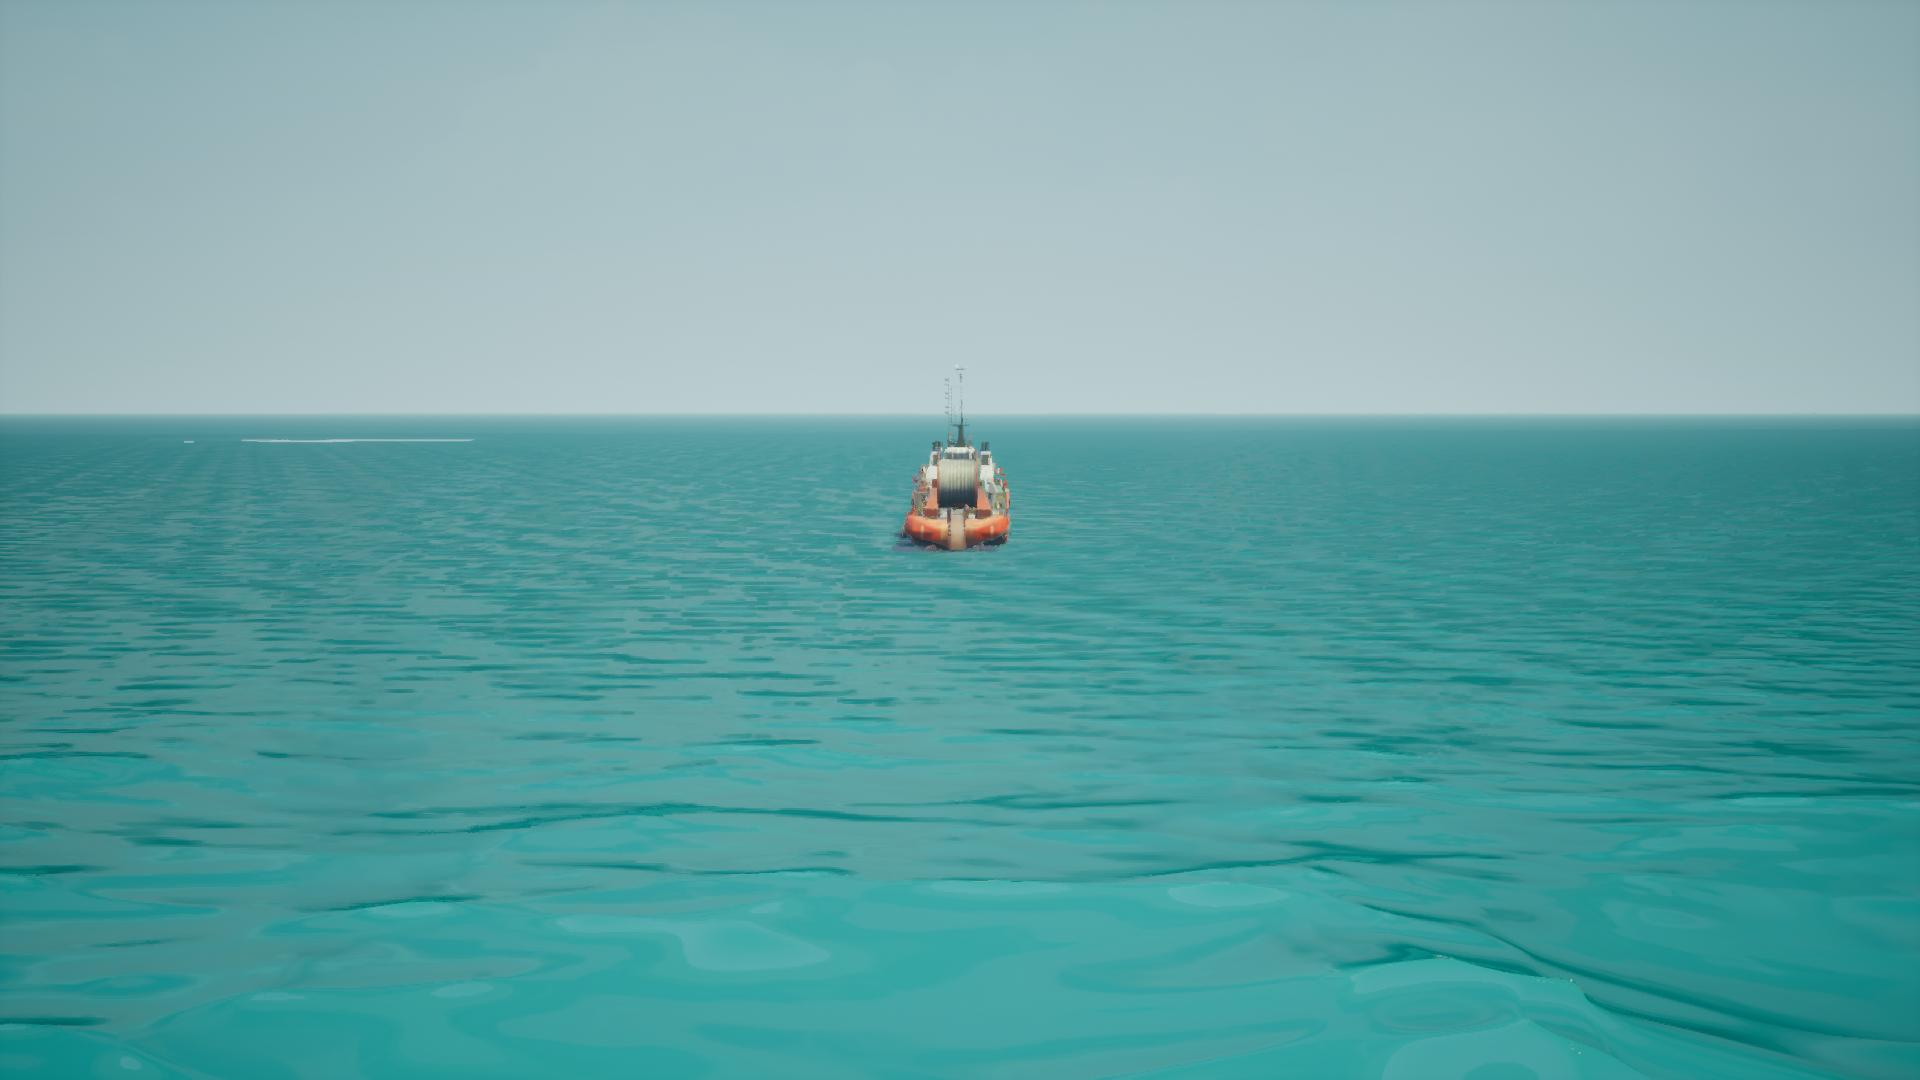Tug Boat: (898, 369, 1011, 556)
